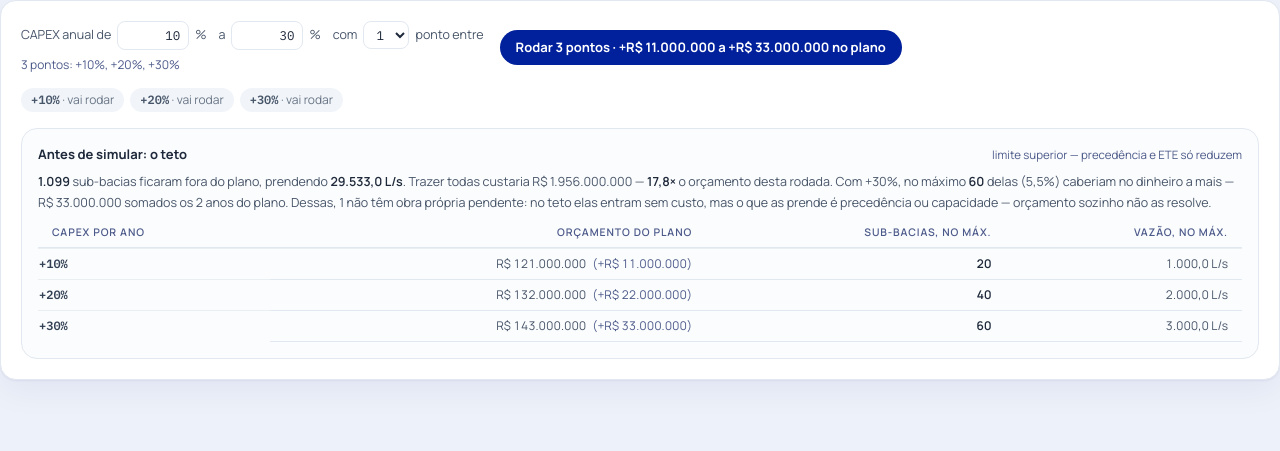
Test: a variação que pertence a outra curva › a explicação do primeiro pedido sobrevive ao sucesso do segundo
The image size is (1280, 451).
Click the button "Rodar 3 pontos · +R$ 11.000.000 a +R$ 33.000.000 no plano" at (701, 47), box x1=500 y1=30 x2=902 y2=65
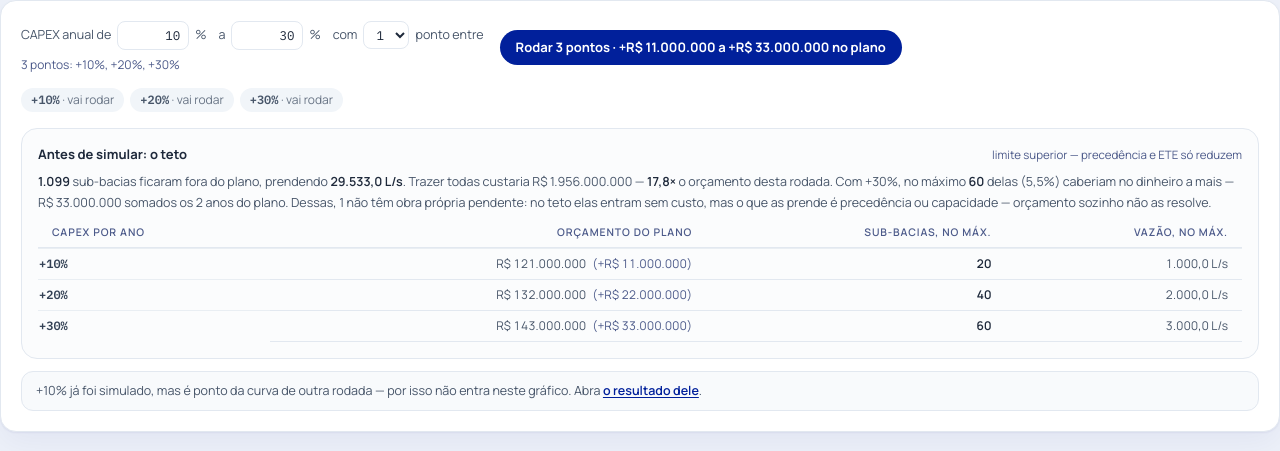
Result: the text "é ponto da curva de outra rodada" is shown once at x1=21 y1=371 x2=1259 y2=411
